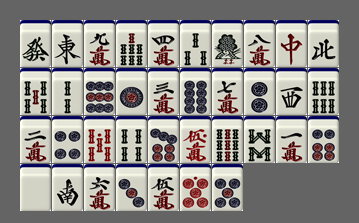0m: (180, 116, 211, 163)
0p: (180, 164, 211, 211)
0s: (84, 116, 115, 163)
1m: (276, 116, 307, 163)
1p: (116, 68, 147, 115)
1s: (212, 20, 243, 67)
1z: (52, 20, 83, 67)
2m: (20, 116, 51, 163)
2p: (244, 68, 275, 115)
2s: (52, 68, 83, 115)
2z: (52, 164, 83, 211)
3m: (148, 68, 179, 115)
3p: (116, 164, 147, 211)
3s: (180, 20, 211, 67)
3z: (276, 68, 307, 115)
4m: (148, 20, 179, 67)
4p: (52, 116, 83, 163)
4s: (116, 116, 147, 163)
4z: (308, 20, 339, 67)
5m: (148, 164, 179, 211)
5p: (212, 164, 243, 211)
5s: (20, 68, 51, 115)
5z: (20, 164, 51, 211)
6m: (84, 164, 115, 211)
6p: (308, 116, 339, 163)
6s: (308, 68, 339, 115)
6z: (20, 20, 51, 67)
7m: (212, 68, 243, 115)
7p: (148, 116, 179, 163)
7s: (116, 20, 147, 67)
7z: (276, 20, 307, 67)
8m: (244, 20, 275, 67)
8p: (180, 68, 211, 115)
8s: (244, 116, 275, 163)
9m: (84, 20, 115, 67)
9p: (84, 68, 115, 115)
9s: (212, 116, 243, 163)
